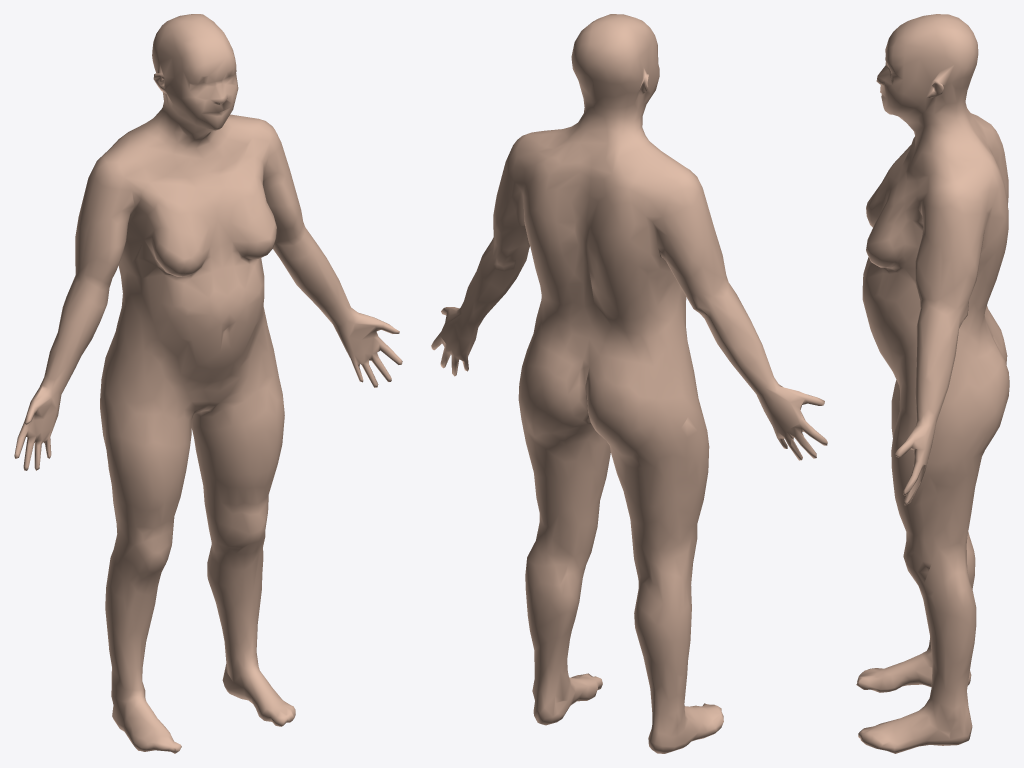
The model's file is adult_female.surface.LOD3.glb.
3 views of the same model, side by side, from view 1: azimuth 30°, elevation 25°; view 2: azimuth 150°, elevation 25°; view 3: azimuth 270°, elevation 25° (orthographic). The views are drawn at different scales.
Visible parts, largest first — view 1: ADULT.FEMALE.SURFACE.SKIN; view 2: ADULT.FEMALE.SURFACE.SKIN; view 3: ADULT.FEMALE.SURFACE.SKIN.
Part boxes in pixels (x1,y1,x2,y2): ADULT.FEMALE.SURFACE.SKIN: (14, 14, 402, 753); ADULT.FEMALE.SURFACE.SKIN: (431, 14, 827, 753); ADULT.FEMALE.SURFACE.SKIN: (856, 14, 1009, 753).
Size of the model in its own units: 0.9685 by 1.67 by 0.3304.
